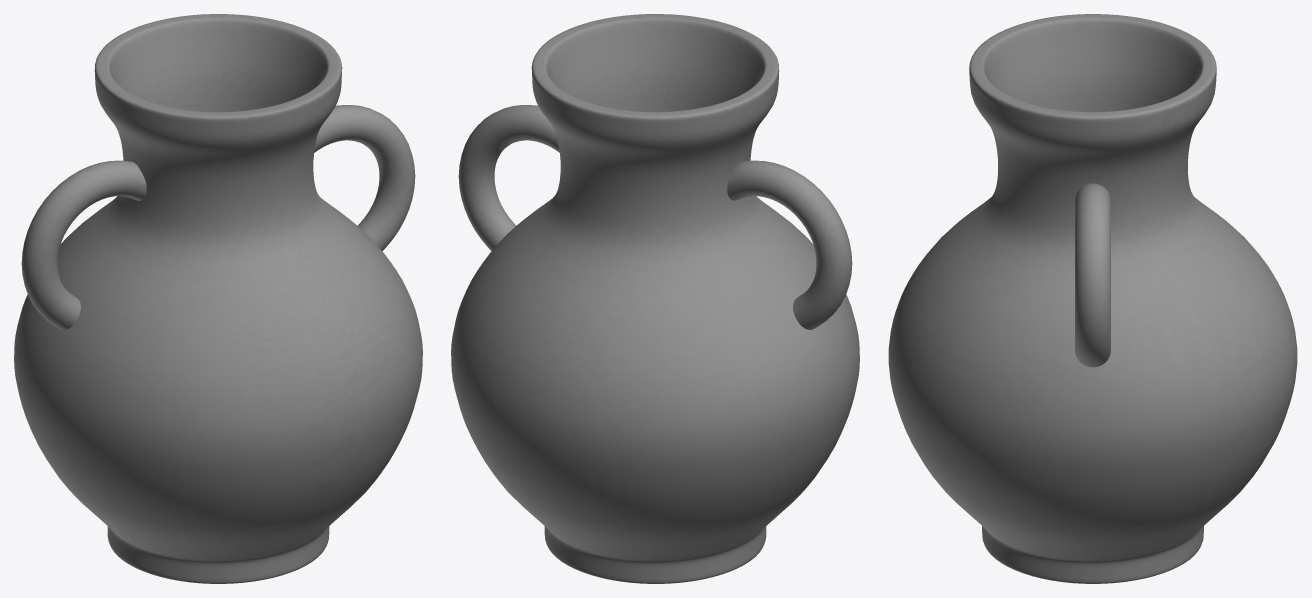
Rendered from 静物_瓶罐_Vase.glb.
The picture shows the model from 3 angles, left to right: view 1: azimuth 30°, elevation 25°; view 2: azimuth 150°, elevation 25°; view 3: azimuth 270°, elevation 25°; orthographic projection.
Visible parts, largest first — view 1: Vase-material, Vase-material_1; view 2: Vase-material, Vase-material_1; view 3: Vase-material, Vase-material_1.
Boxes of the visible parts, x1=… form: Vase-material: x1=14, y1=14, x2=422, y2=583; Vase-material_1: x1=27, y1=70, x2=419, y2=567; Vase-material: x1=451, y1=14, x2=859, y2=583; Vase-material_1: x1=451, y1=85, x2=853, y2=574; Vase-material: x1=888, y1=14, x2=1297, y2=583; Vase-material_1: x1=904, y1=69, x2=1221, y2=571.
Bounding box in the file's own units: 0.2574 × 0.3 × 0.2346.
2 materials, 2 textured.
